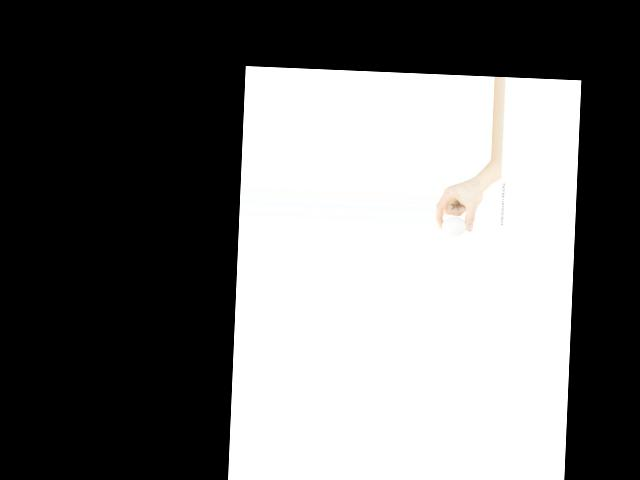egg: (441, 216, 467, 234)
